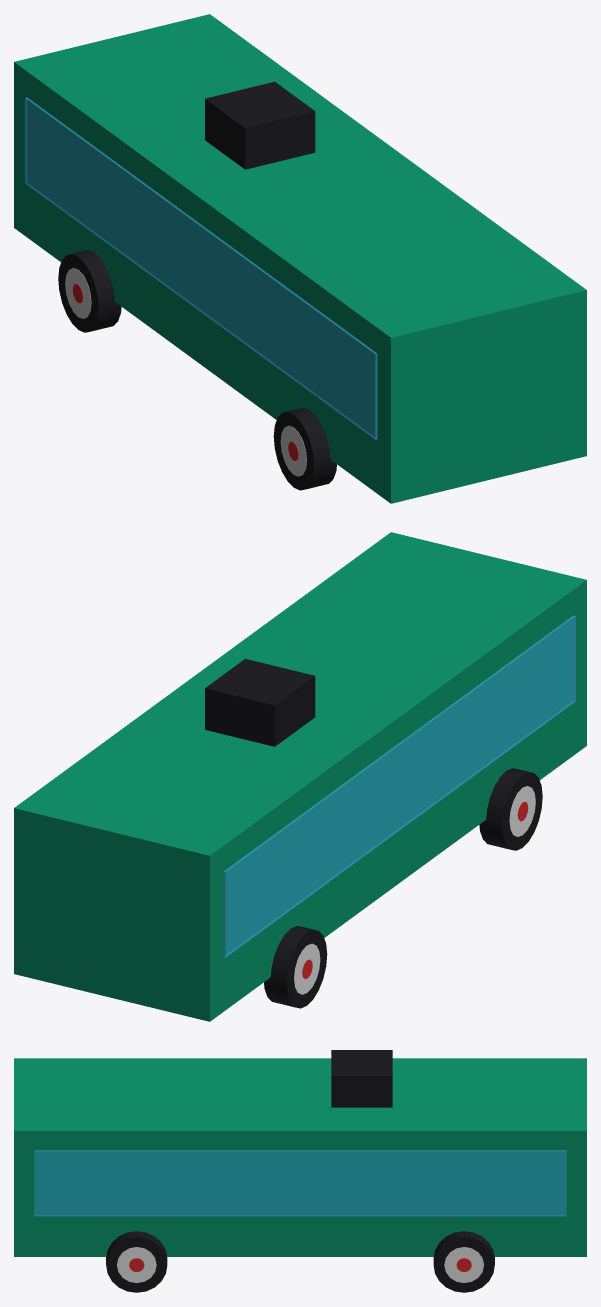
Rendered from tram.glb.
3 views of the same model, one above another, from view 1: azimuth 30°, elevation 25°; view 2: azimuth 150°, elevation 25°; view 3: azimuth 270°, elevation 25° (orthographic). The views are drawn at different scales.
Size of the model in its own units: 0.3521 by 0.3607 by 1.
